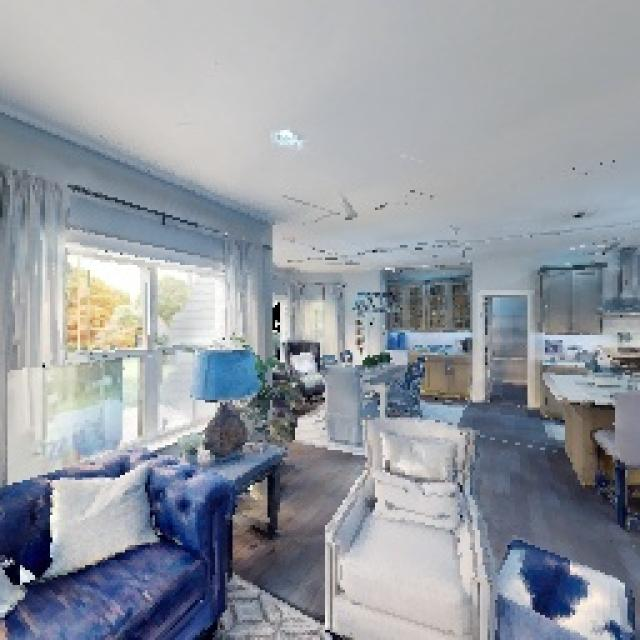sofa: (318, 404, 504, 640)
table: (533, 350, 640, 498)
